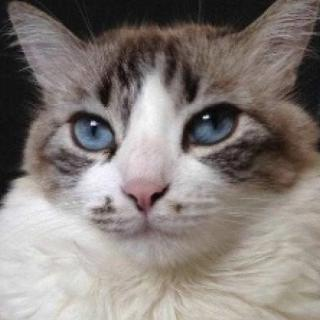cat: (2, 0, 320, 265)
nose: (116, 155, 183, 218)
